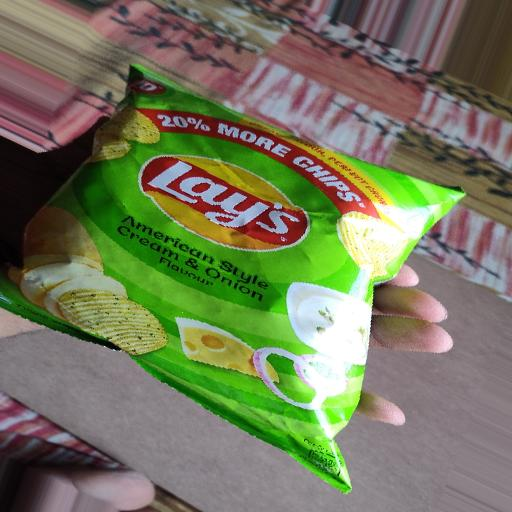Lays Green Small pack (American style cream and onion): (6, 57, 465, 500)
